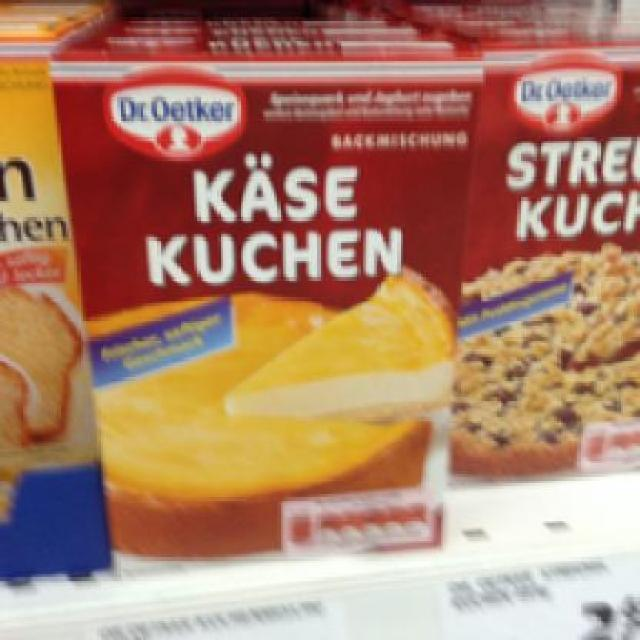Cake: (48, 34, 464, 577), (442, 26, 638, 483)
